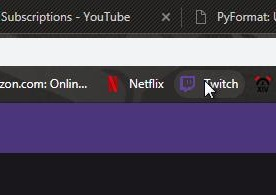cursor: (199, 78, 219, 102)
